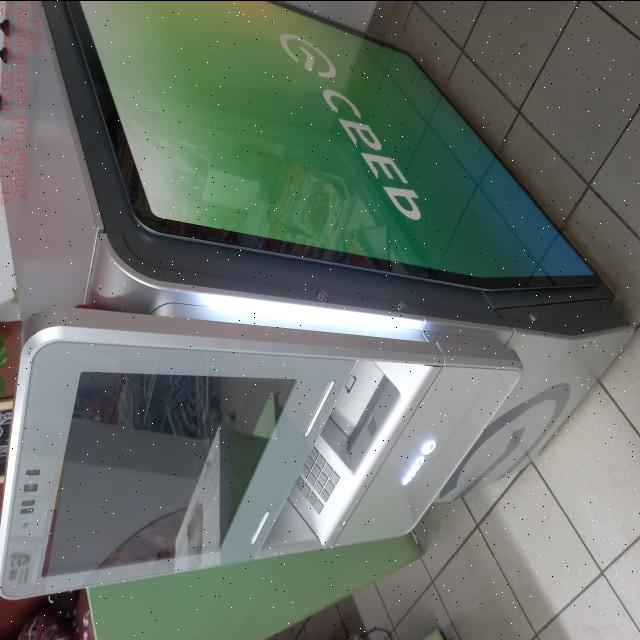bank: (1, 0, 636, 595)
